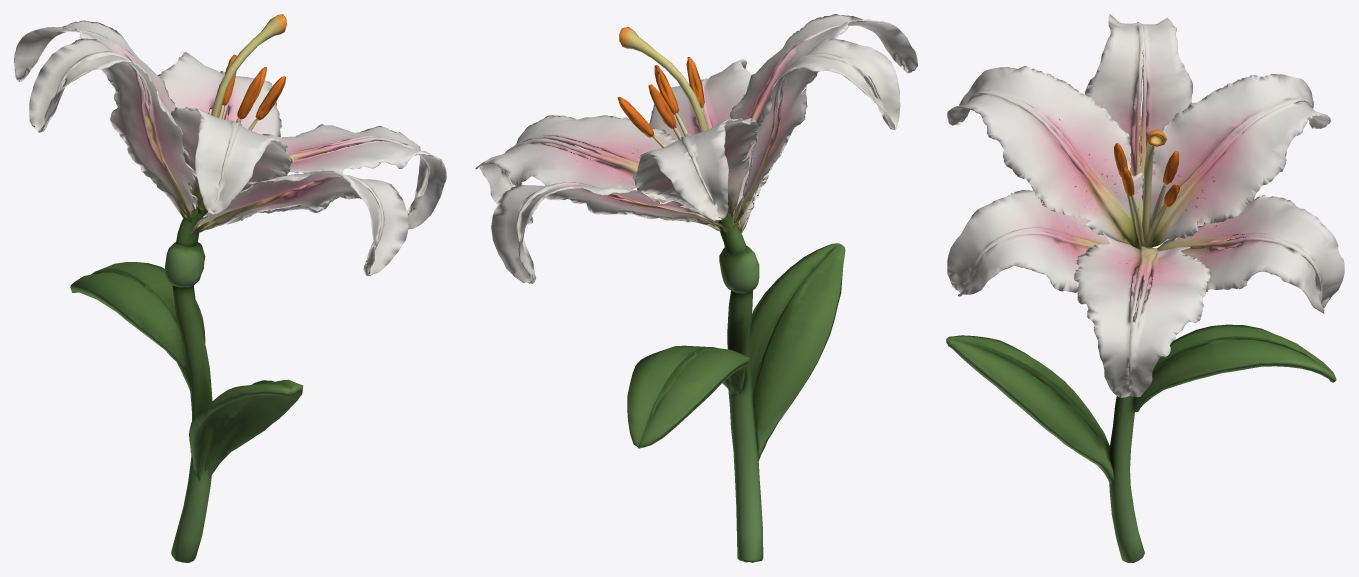
Rendered from r33-lily.glb.
3 views of the same model, side by side, from view 1: azimuth 30°, elevation 25°; view 2: azimuth 150°, elevation 25°; view 3: azimuth 270°, elevation 25° (orthographic). The views are drawn at different scales.
Visible parts, largest first — view 1: tripo_node_38b063cd-b2a7-4ebe-a545-874038a062aa; view 2: tripo_node_38b063cd-b2a7-4ebe-a545-874038a062aa; view 3: tripo_node_38b063cd-b2a7-4ebe-a545-874038a062aa.
Part boxes in pixels (x1,y1,x2,y2): tripo_node_38b063cd-b2a7-4ebe-a545-874038a062aa: [14, 14, 446, 562]; tripo_node_38b063cd-b2a7-4ebe-a545-874038a062aa: [475, 14, 917, 562]; tripo_node_38b063cd-b2a7-4ebe-a545-874038a062aa: [946, 14, 1344, 562].
Size of the model in its own units: 0.7988 by 0.998 by 0.7285.
Materials: 1 (1 with a texture image).
